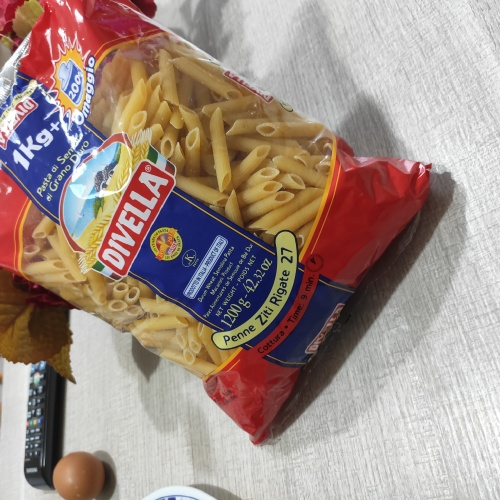pasta: (20, 24, 379, 411)
